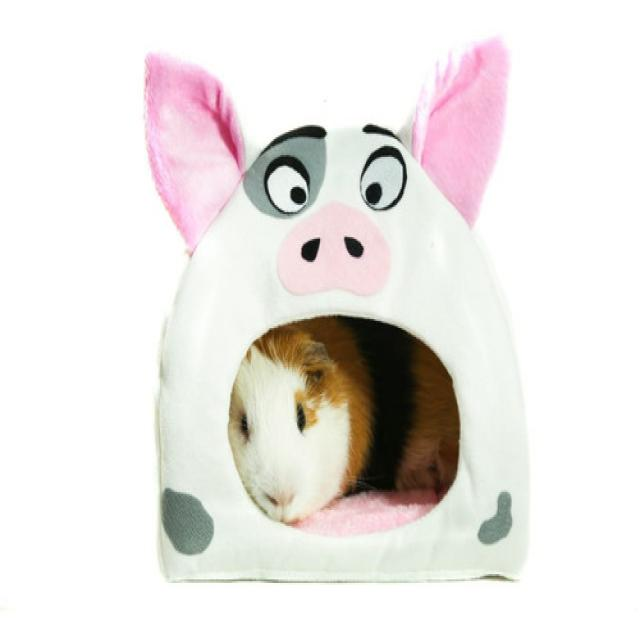guinea pig: (229, 318, 371, 522)
